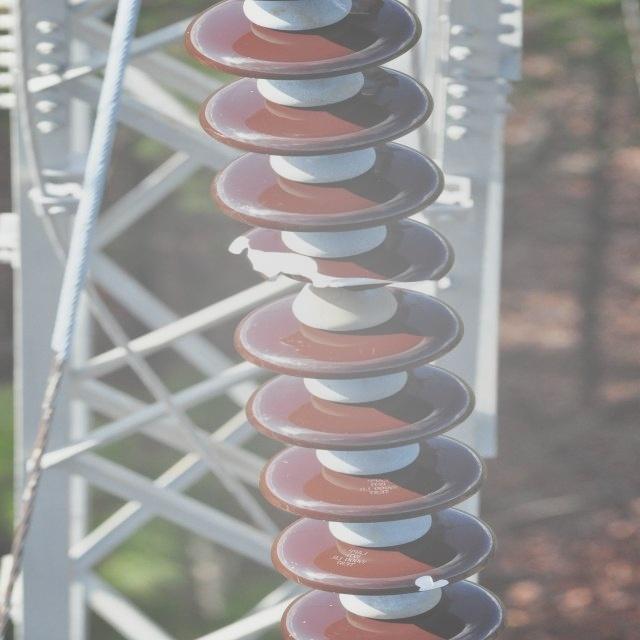broken: (226, 235, 438, 290)
insulator: (186, 0, 504, 637)
